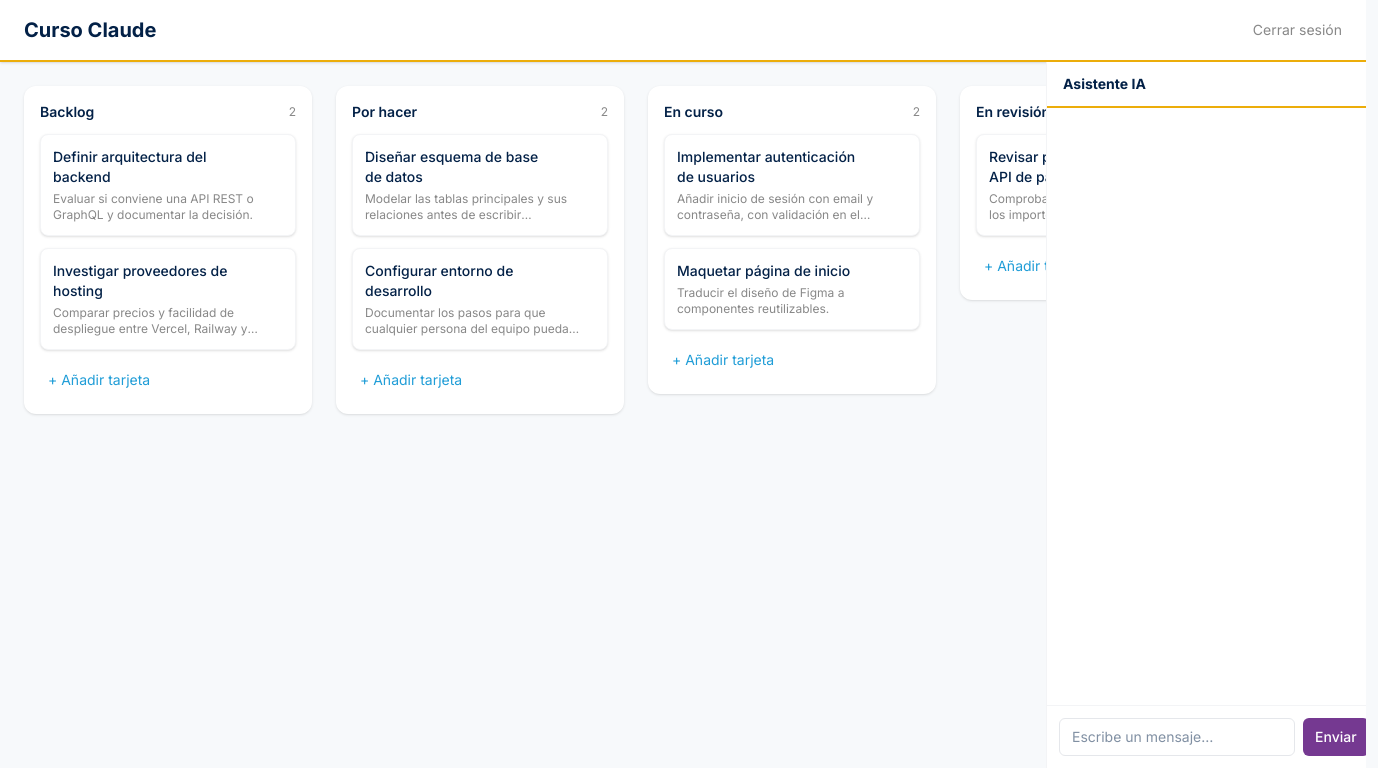
Test: BoardApp › renames a column via the API
Click the button "Backlog" at (67, 112), box [40,102,94,122]
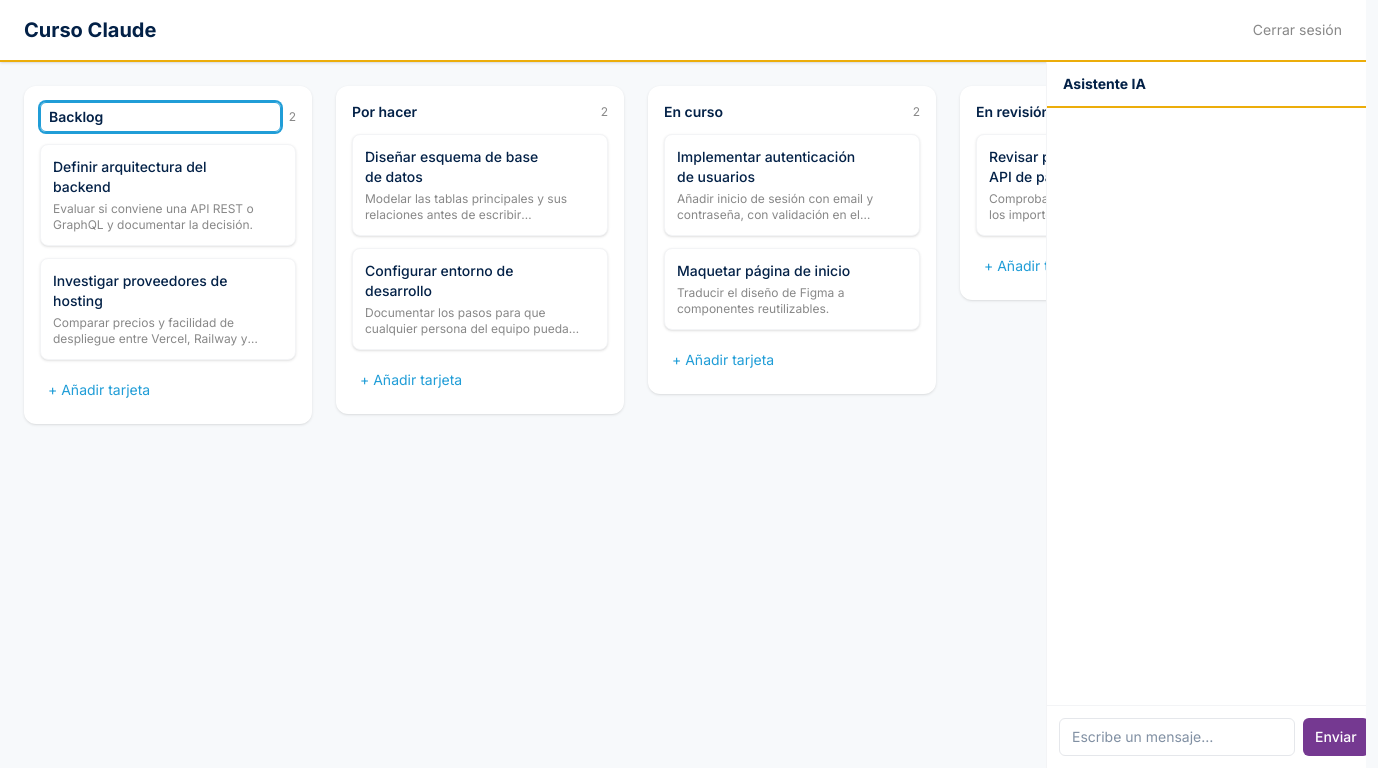
Replace the text in the field named "Nombre de la columna" with "Ideas" at (160, 117), box [40,102,281,132]
Then press Enter
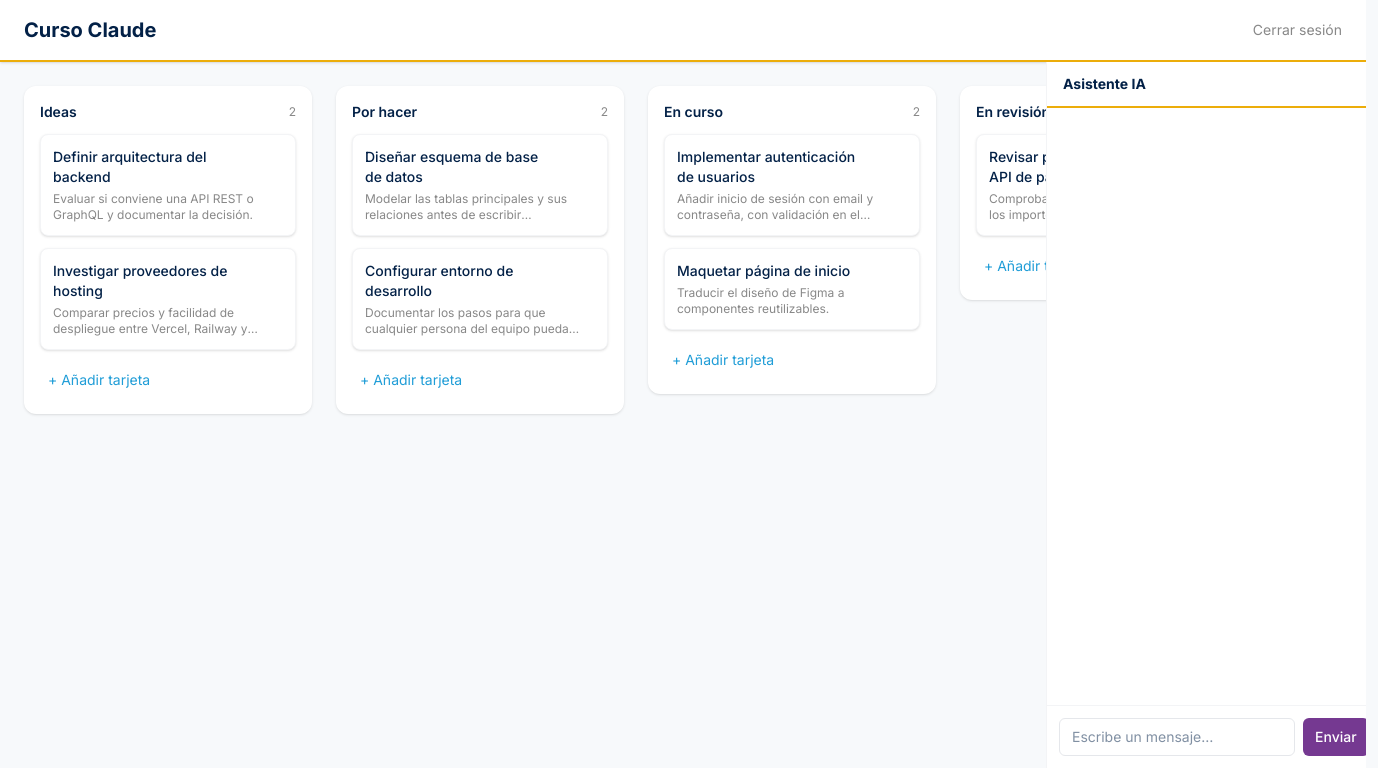
Expected: the button "Ideas" is shown, [40,102,77,122]
